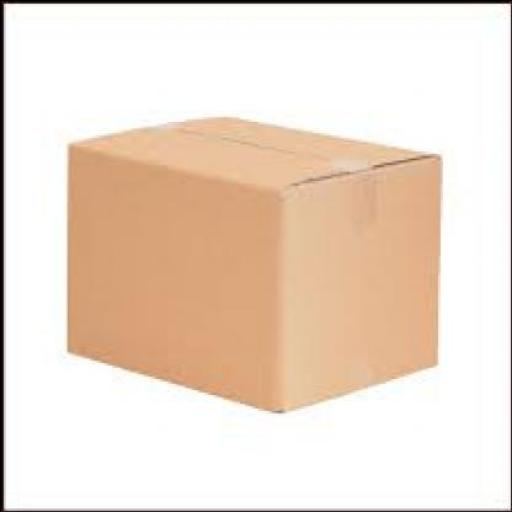cardboard: (66, 111, 446, 408)
